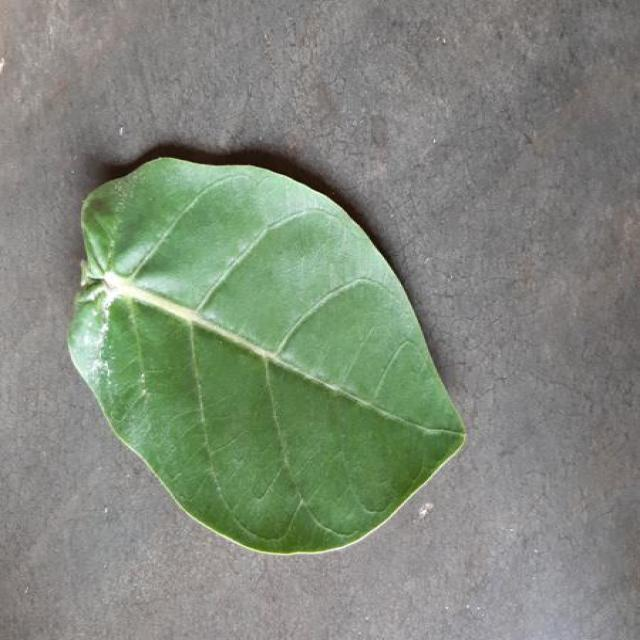ekka: (68, 159, 465, 554)
